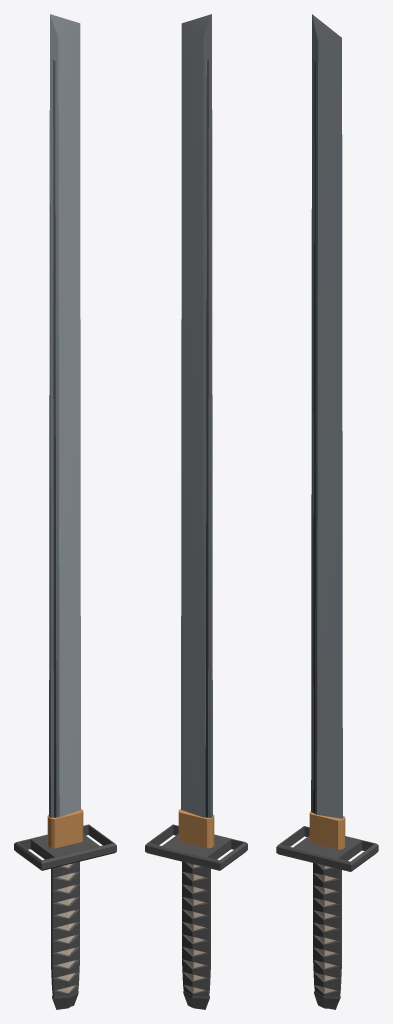
The model's file is SM_Sword03_Chokuto_1.fbx.
The picture shows the model from 3 angles, left to right: view 1: azimuth 30°, elevation 25°; view 2: azimuth 150°, elevation 25°; view 3: azimuth 330°, elevation 25°; orthographic projection.
Parts seen in each view (by area): view 1: Cube.084, Torus.028, Cylinder.090, Cylinder.088, Sphere.121; view 2: Cube.084, Torus.028, Cylinder.090, Cylinder.088, Sphere.121; view 3: Cube.084, Torus.028, Cylinder.090, Cylinder.088, Sphere.121.
Boxes of the visible parts, left/top/right/bottom form: Cube.084: left=49, top=14, right=80, bottom=817; Torus.028: left=51, top=861, right=79, bottom=996; Cylinder.090: left=14, top=824, right=116, bottom=870; Cylinder.088: left=47, top=809, right=83, bottom=848; Sphere.121: left=52, top=991, right=78, bottom=1009; Cube.084: left=181, top=14, right=212, bottom=817; Torus.028: left=182, top=861, right=210, bottom=996; Cylinder.090: left=145, top=824, right=247, bottom=870; Cylinder.088: left=178, top=809, right=214, bottom=848; Sphere.121: left=183, top=991, right=209, bottom=1009; Cube.084: left=311, top=14, right=342, bottom=818; Torus.028: left=313, top=863, right=341, bottom=997; Cylinder.090: left=276, top=826, right=378, bottom=871; Cylinder.088: left=309, top=811, right=345, bottom=849; Sphere.121: left=314, top=991, right=340, bottom=1009.
Bounding box in the file's own units: 0.0654 × 0.828 × 0.0413.
